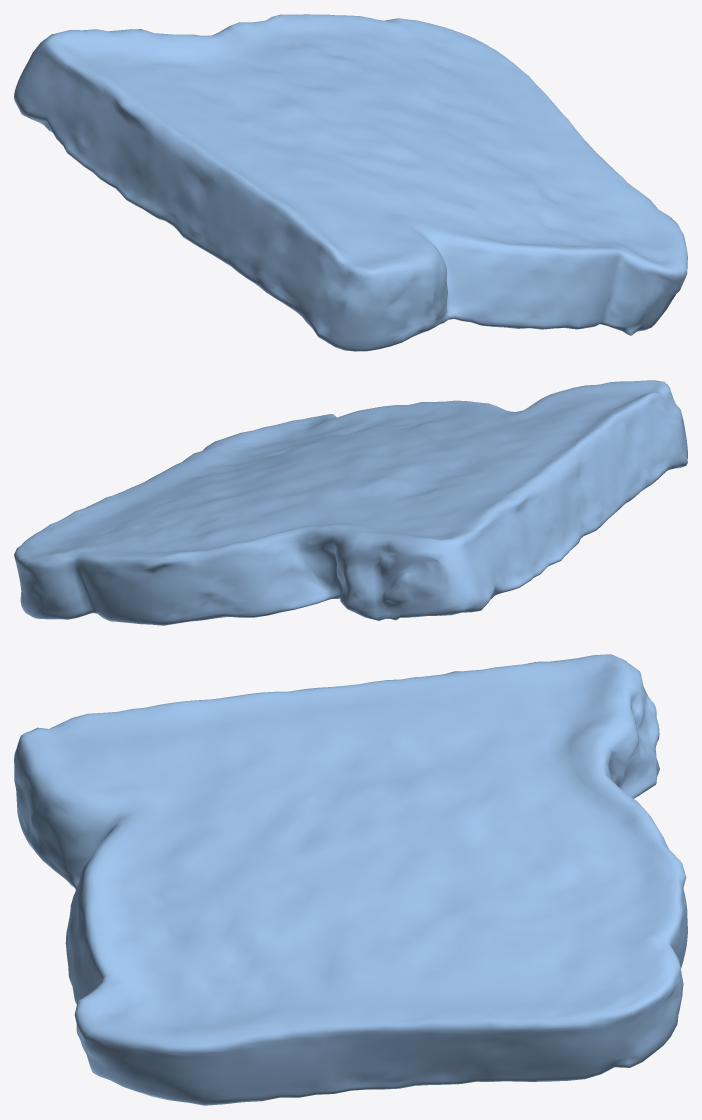
File: Bread.fbx
The picture shows the model from 3 angles, top to bottom: view 1: azimuth 30°, elevation 25°; view 2: azimuth 150°, elevation 25°; view 3: azimuth 270°, elevation 25°; orthographic projection. The views are drawn at different scales.
Visible parts, largest first — view 1: Model; view 2: Model; view 3: Model.
Boxes of the visible parts, box(x1,y1,x2,y2) form: Model: box(14, 14, 687, 351); Model: box(14, 380, 687, 625); Model: box(14, 654, 687, 1105).
Size of the model in its own units: 19.11 by 7.97 by 21.29.
